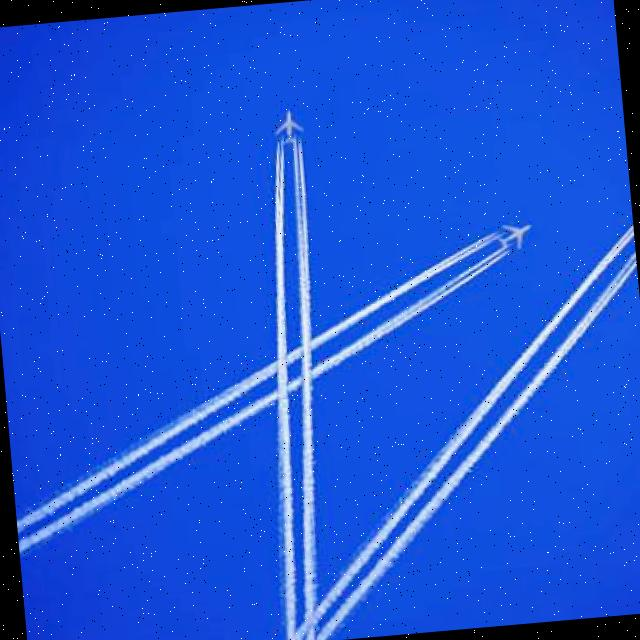Ct: (1, 93, 640, 587)
